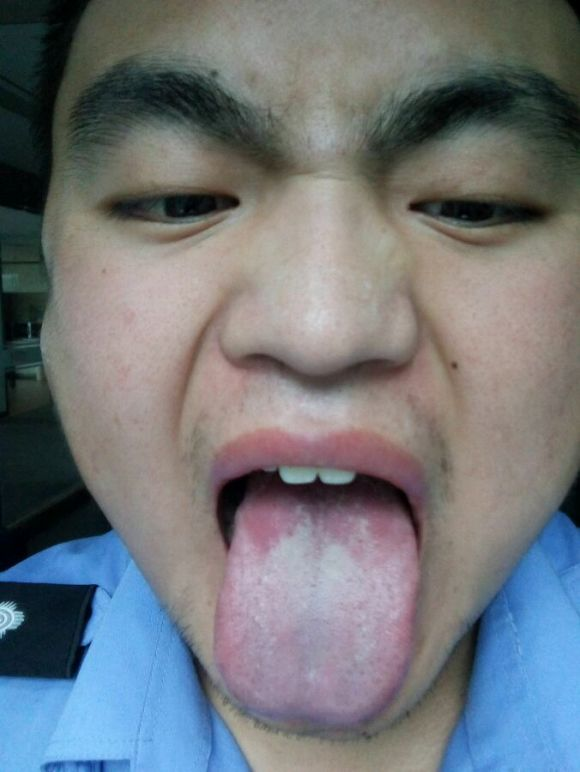baitaishe: (214, 479, 419, 728)
botaishe: (242, 484, 396, 560)
